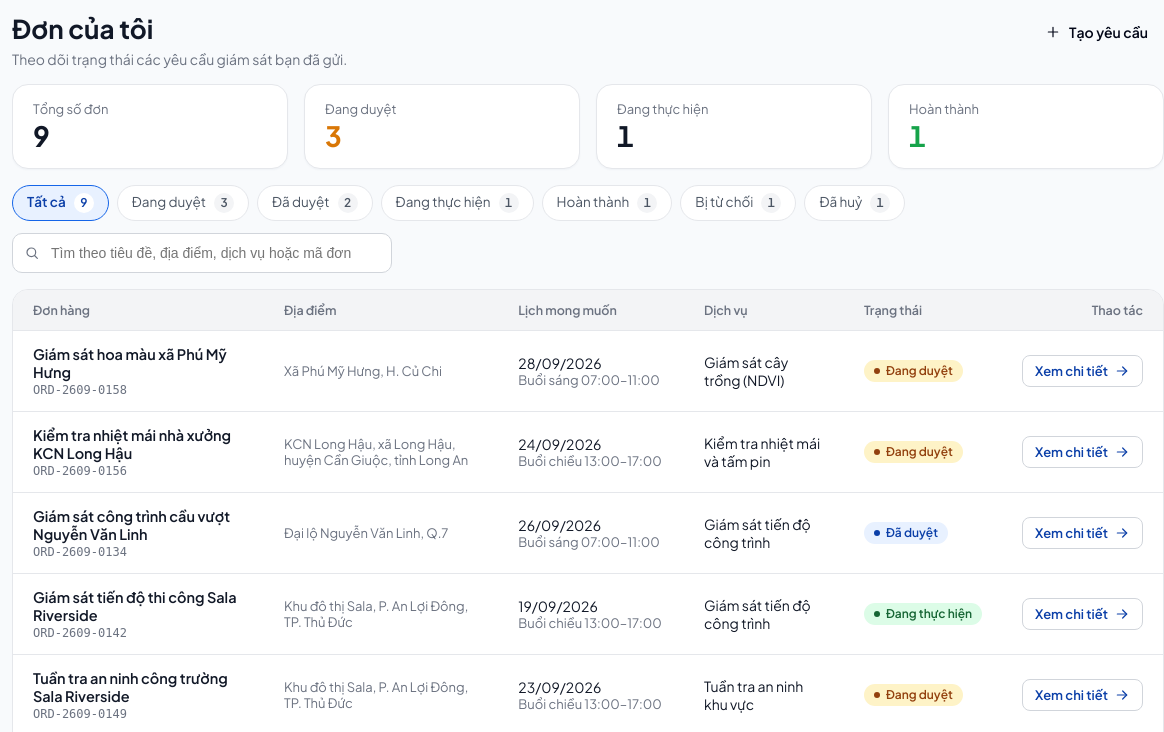
OrdersPage › shows a no-match title when a search finds nothing
Type "không có đơn nào như vậy" into the search field named "Tìm đơn hàng" at [202, 253], box [12,233,392,273]
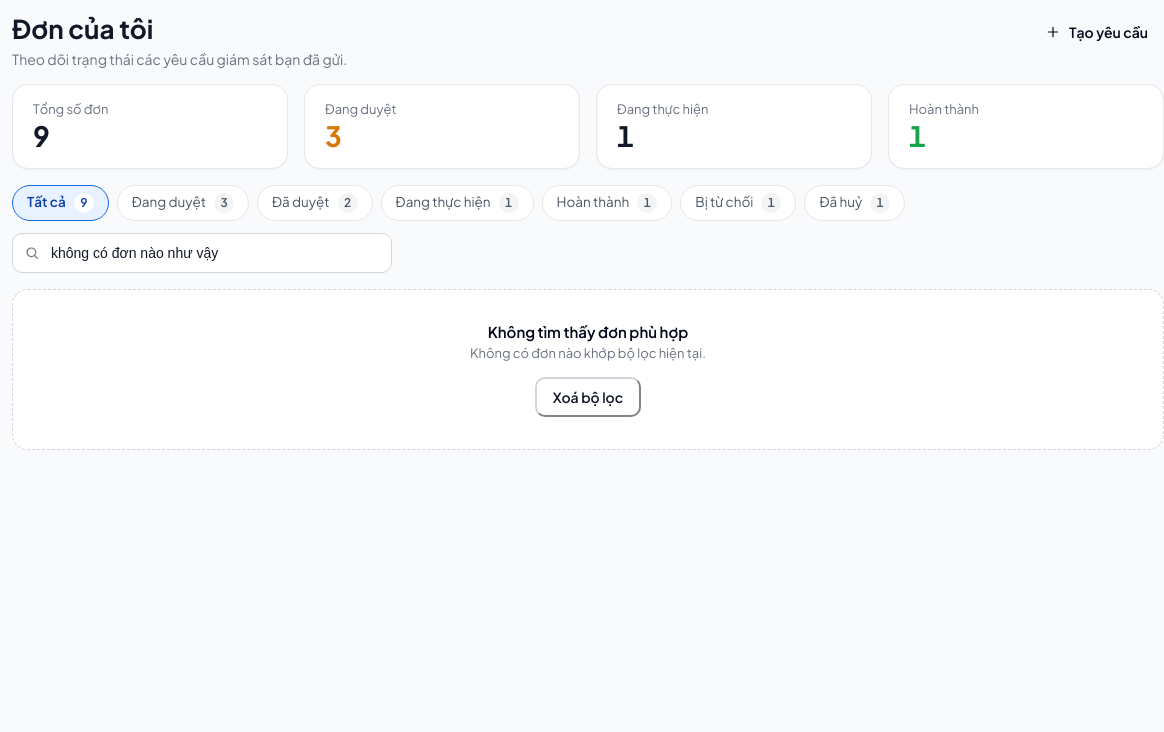
Expected: the text "Không tìm thấy đơn phù hợp" is shown, [488,322,688,341]
